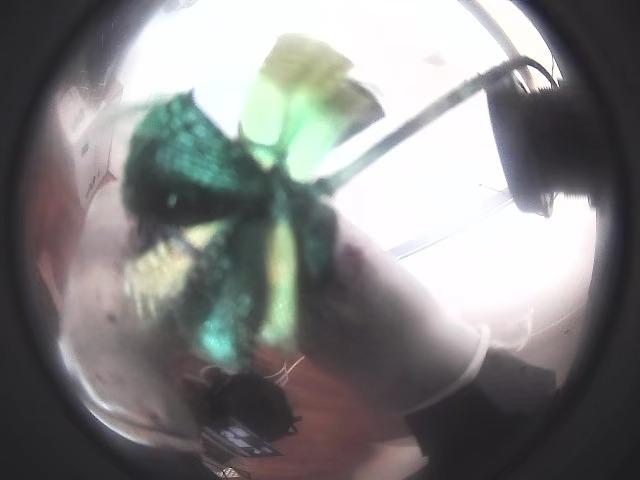berry: (123, 34, 372, 371)
gripper: (300, 216, 490, 413), (60, 181, 194, 449)
lense: (0, 0, 168, 479), (518, 0, 639, 478)
